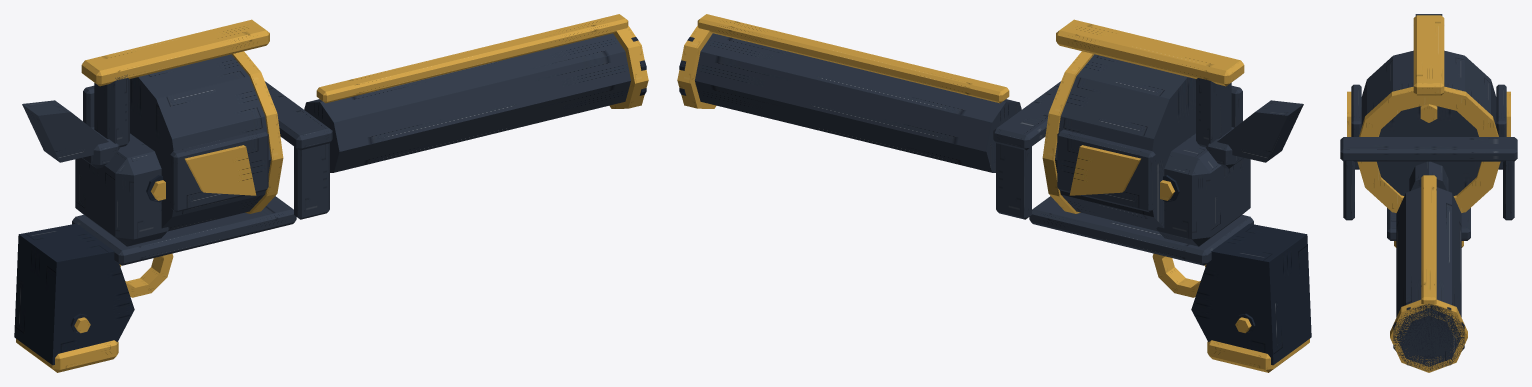
Rendered from magnus.glb.
3 renders of one model, left to right at view 1: azimuth 30°, elevation 25°; view 2: azimuth 150°, elevation 25°; view 3: azimuth 270°, elevation 25°, orthographic. The views are drawn at different scales.
Parts seen in each view (by area): view 1: body, barrel, core, grip; view 2: body, barrel, core, grip; view 3: core, barrel, body.
Boxes of the visible parts, bbox=[...] form: body: bbox=[22, 19, 332, 297]; barrel: bbox=[304, 14, 648, 172]; core: bbox=[130, 51, 283, 231]; grip: bbox=[14, 223, 134, 372]; body: bbox=[993, 19, 1303, 297]; barrel: bbox=[677, 14, 1021, 172]; core: bbox=[1042, 51, 1195, 231]; grip: bbox=[1191, 223, 1311, 372]; core: bbox=[1357, 50, 1500, 212]; barrel: bbox=[1390, 175, 1467, 372]; body: bbox=[1340, 14, 1517, 240].
Size of the model in its own units: 0.702 by 0.3167 by 0.218.
3 materials, 3 textured.
